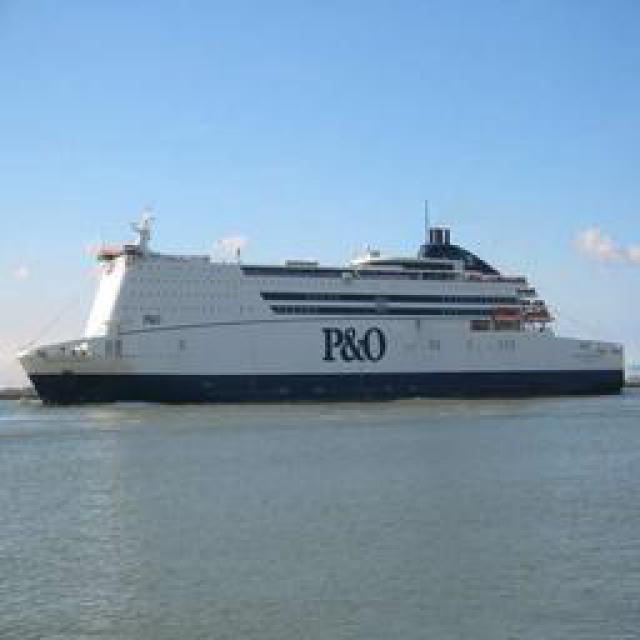Ship: (24, 204, 629, 404)
